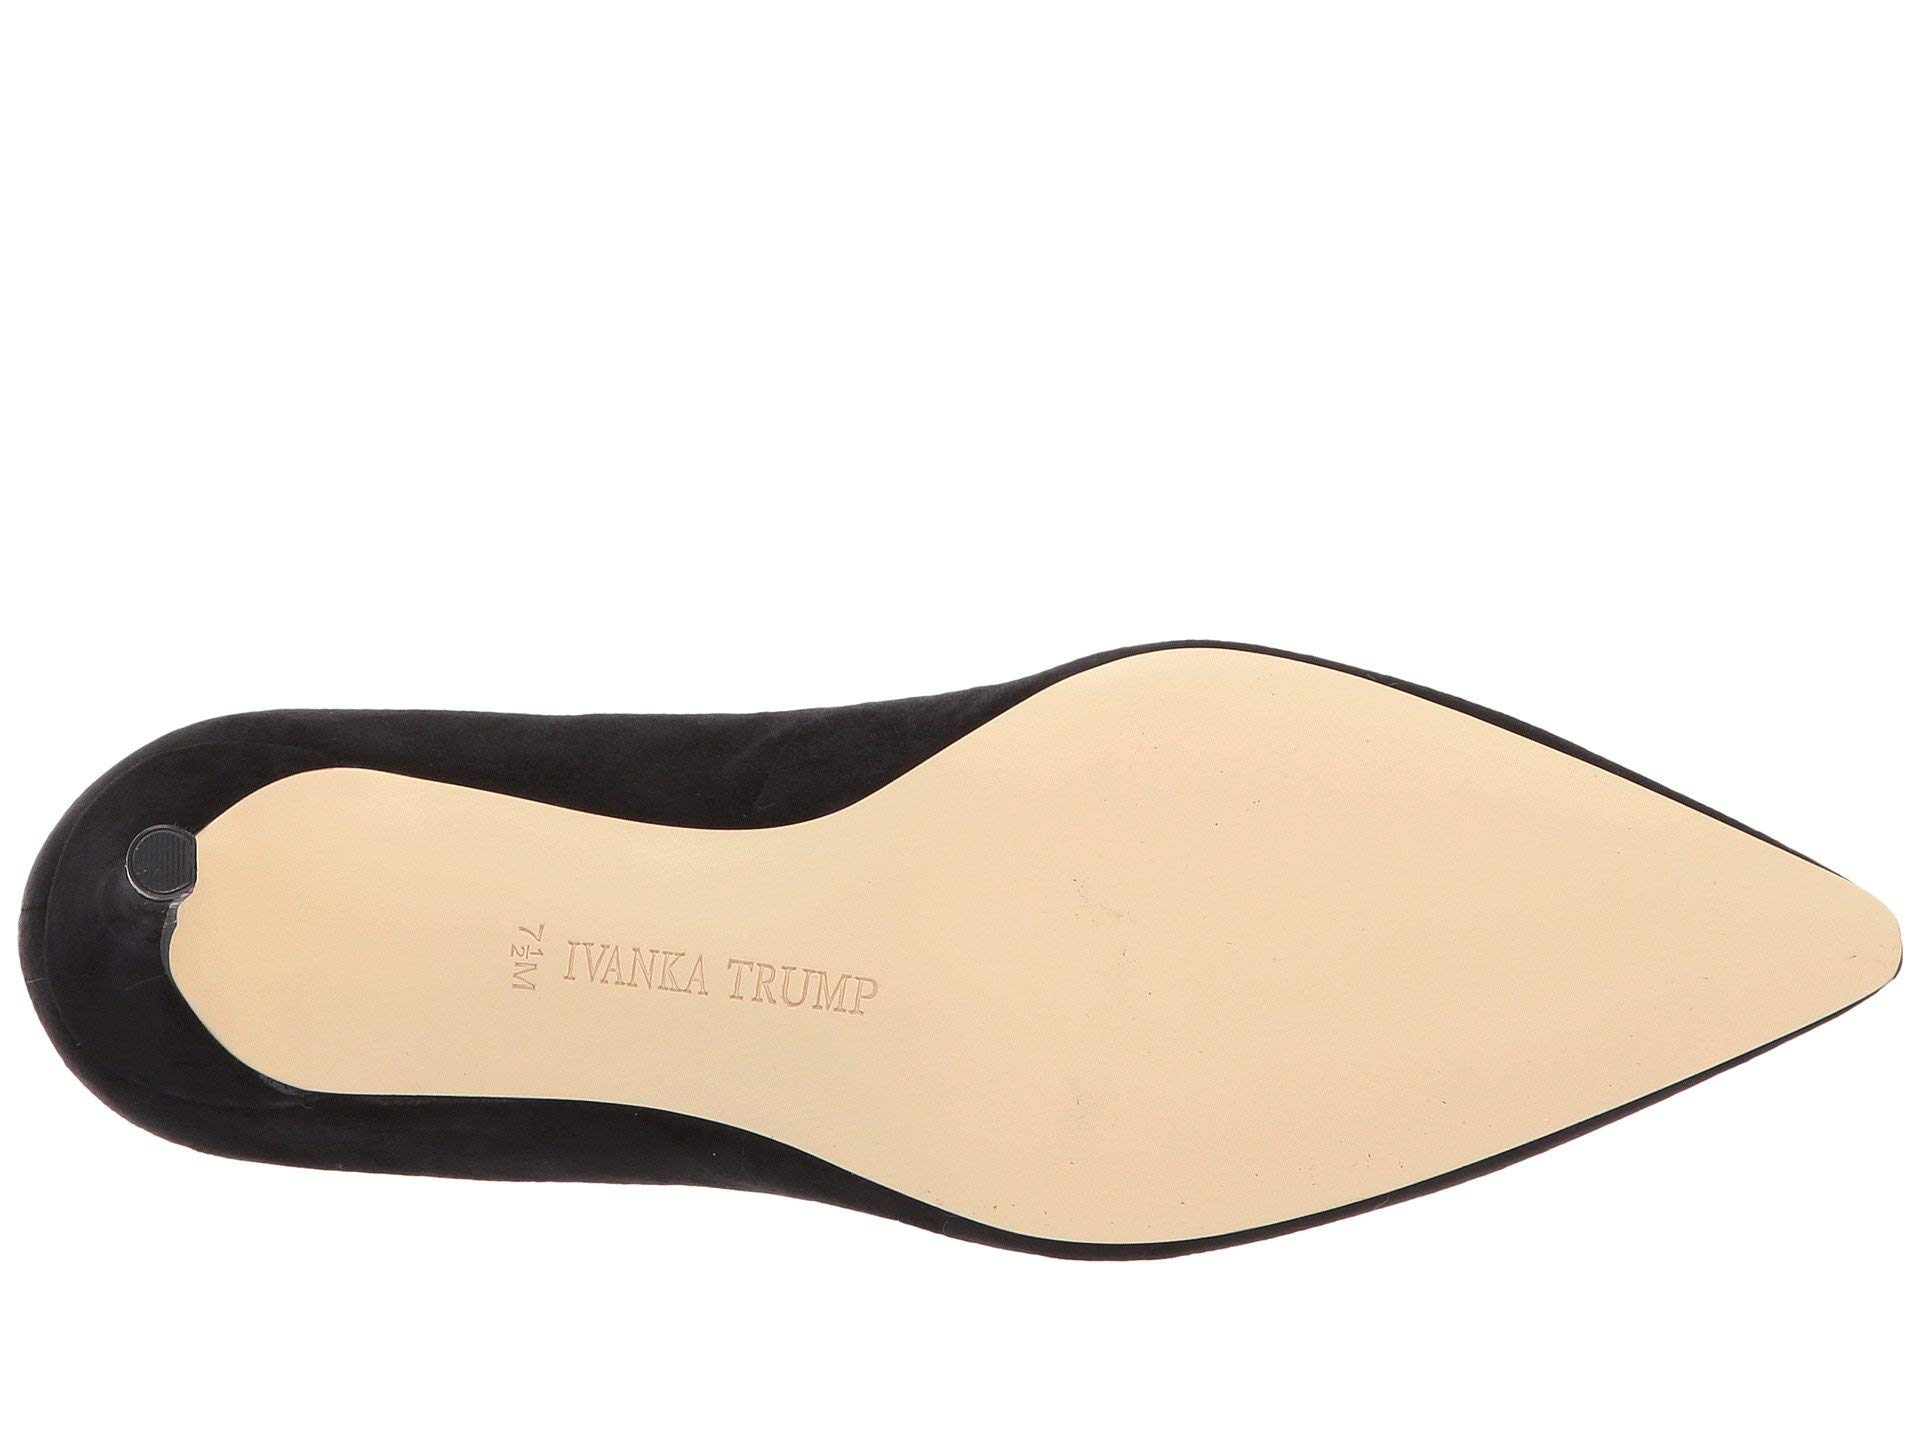text: (479, 912, 571, 1023)
